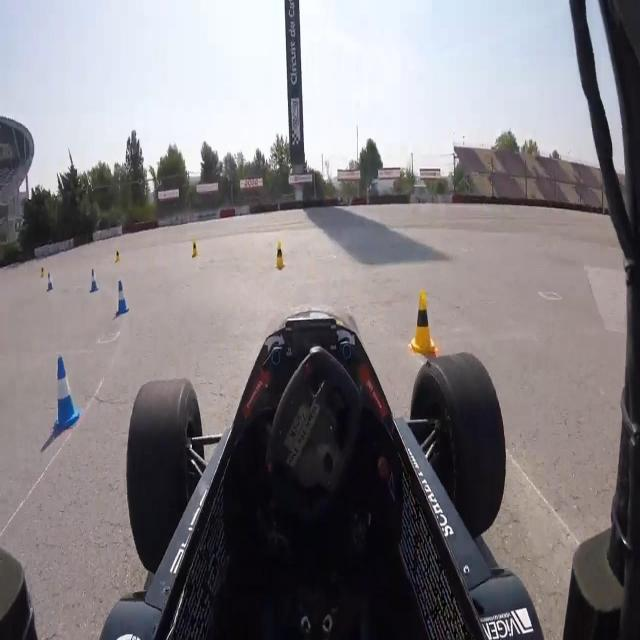blue_cone: (54, 352, 80, 431), (115, 278, 128, 316), (89, 268, 99, 292), (47, 270, 55, 291)
yellow_cone: (406, 292, 436, 354), (275, 242, 285, 272), (191, 240, 199, 258), (116, 248, 121, 265), (40, 265, 45, 280)
